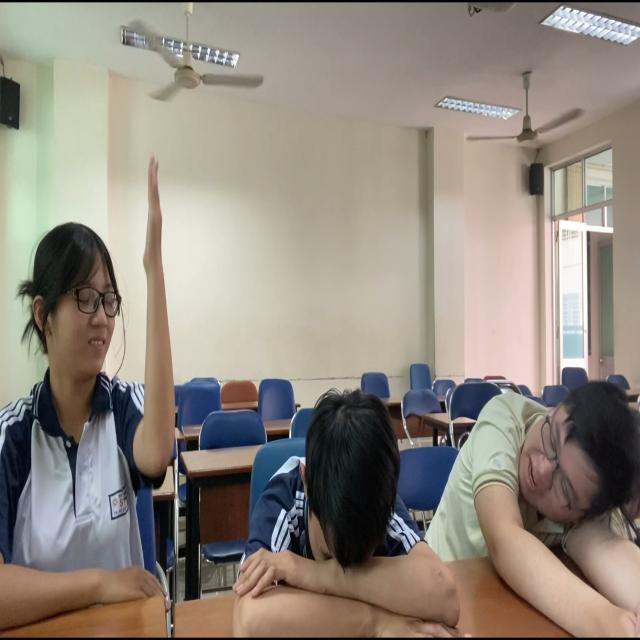raise_hand: (1, 124, 187, 640)
sleep: (224, 389, 459, 640), (445, 363, 640, 596)
